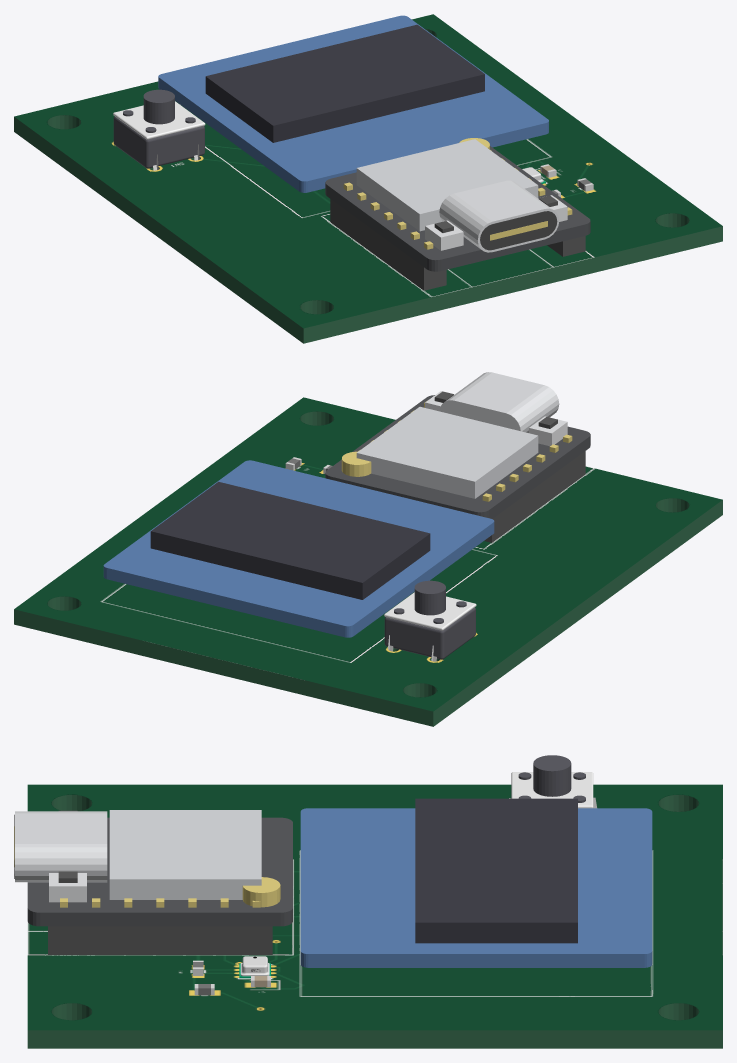
The model's file is board.glb.
3 renders of one model, top to bottom at view 1: azimuth 30°, elevation 25°; view 2: azimuth 150°, elevation 25°; view 3: azimuth 270°, elevation 25°, orthographic. The views are drawn at different scales.
Parts seen in each view (by area): view 1: Box0, DS1, U1, SW1; view 2: Box0, DS1, U1, SW1; view 3: Box0, DS1, U1, SW1, U2.
Boxes of the visible parts, bbox=[...] form: Box0: bbox=[14, 14, 722, 343]; DS1: bbox=[158, 15, 548, 192]; U1: bbox=[325, 138, 590, 290]; SW1: bbox=[113, 89, 205, 170]; Box0: bbox=[14, 397, 722, 726]; DS1: bbox=[103, 460, 494, 637]; U1: bbox=[325, 372, 590, 542]; SW1: bbox=[384, 580, 476, 661]; Box0: bbox=[27, 784, 722, 1048]; DS1: bbox=[300, 798, 652, 967]; U1: bbox=[14, 810, 292, 954]; SW1: bbox=[509, 755, 596, 808]; U2: bbox=[239, 956, 270, 978].
Size of the model in its own units: 46 by 10.72 by 56.08.
21 materials, 2 textured.
